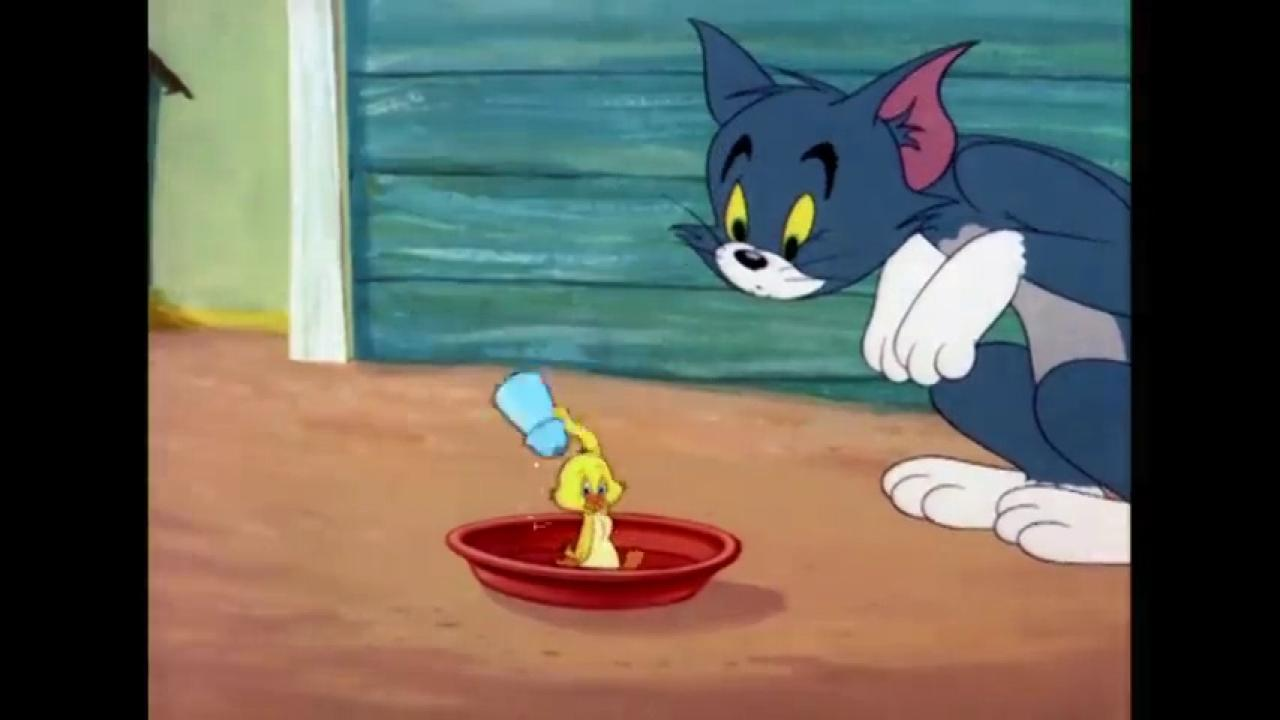Tom: (666, 12, 1131, 568)
